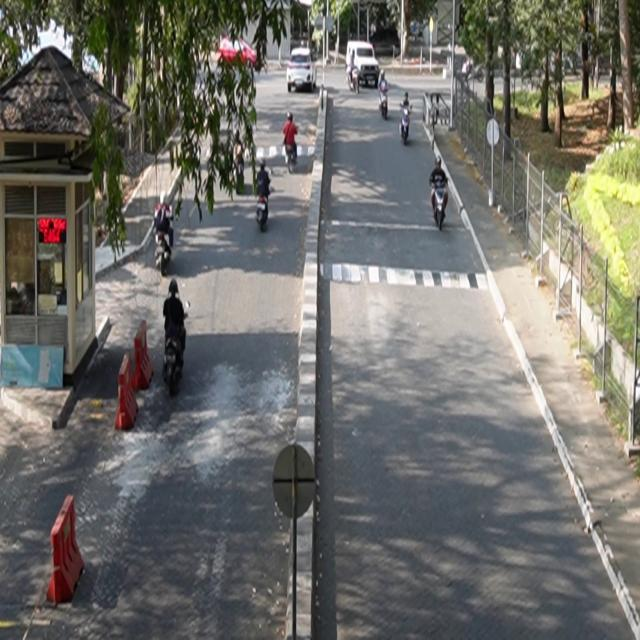car: (287, 47, 318, 93)
